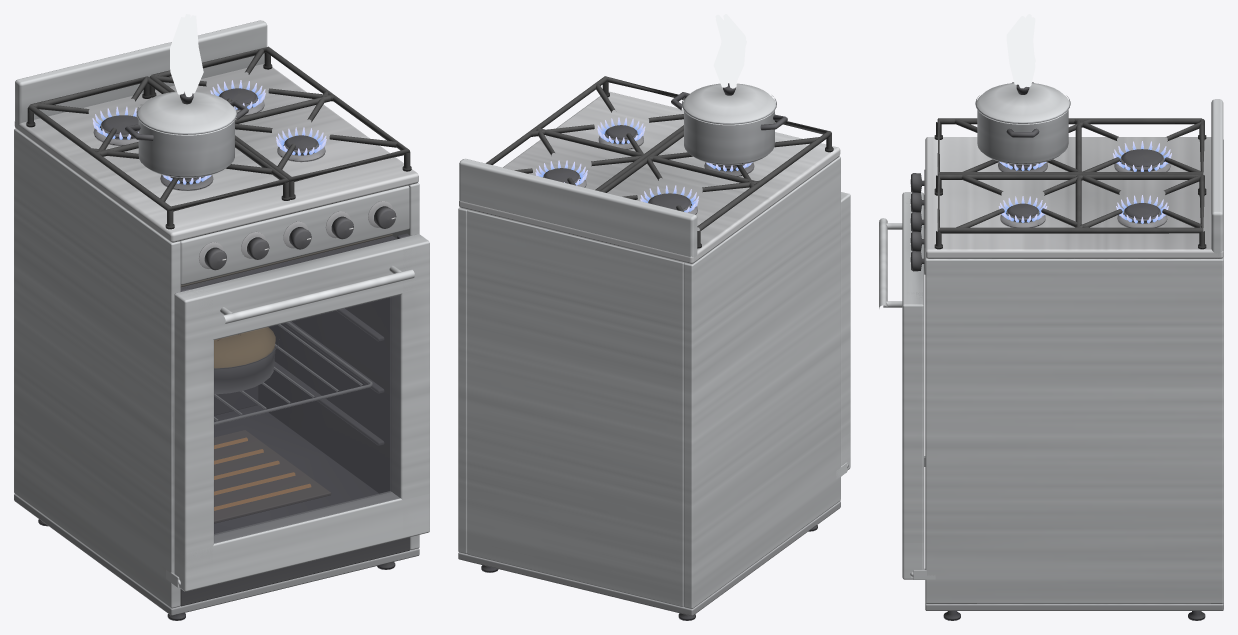
File: int_fogao.glb
The picture shows the model from 3 angles, left to right: view 1: azimuth 30°, elevation 25°; view 2: azimuth 150°, elevation 25°; view 3: azimuth 270°, elevation 25°; orthographic projection. The views are drawn at different scales.
Parts seen in each view (by area): view 1: corpo, porta_forno, vapor_panela, calor_forno; view 2: corpo, porta_forno, vapor_panela; view 3: corpo, porta_forno, vapor_panela.
Boxes of the visible parts, x1,y1,x2,y2 form: corpo: [14, 20, 419, 620]; porta_forno: [174, 234, 429, 591]; vapor_panela: [170, 14, 203, 96]; calor_forno: [214, 437, 310, 510]; corpo: [458, 76, 848, 620]; porta_forno: [841, 192, 850, 470]; vapor_panela: [713, 14, 746, 88]; corpo: [910, 82, 1223, 620]; porta_forno: [879, 192, 924, 579]; vapor_panela: [1006, 14, 1035, 88].
Size of the model in its own units: 0.5 by 1.07 by 0.635.
Materials: 4 (4 with a texture image).
